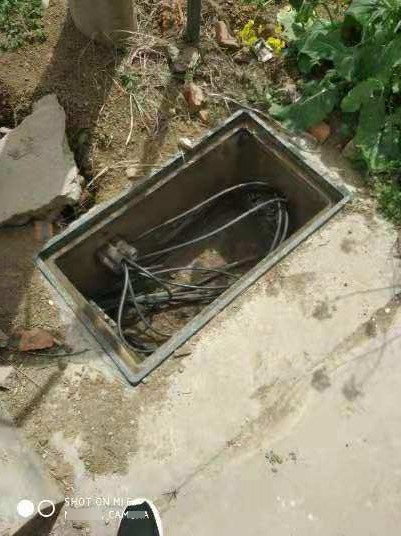lose: (33, 107, 349, 387)
